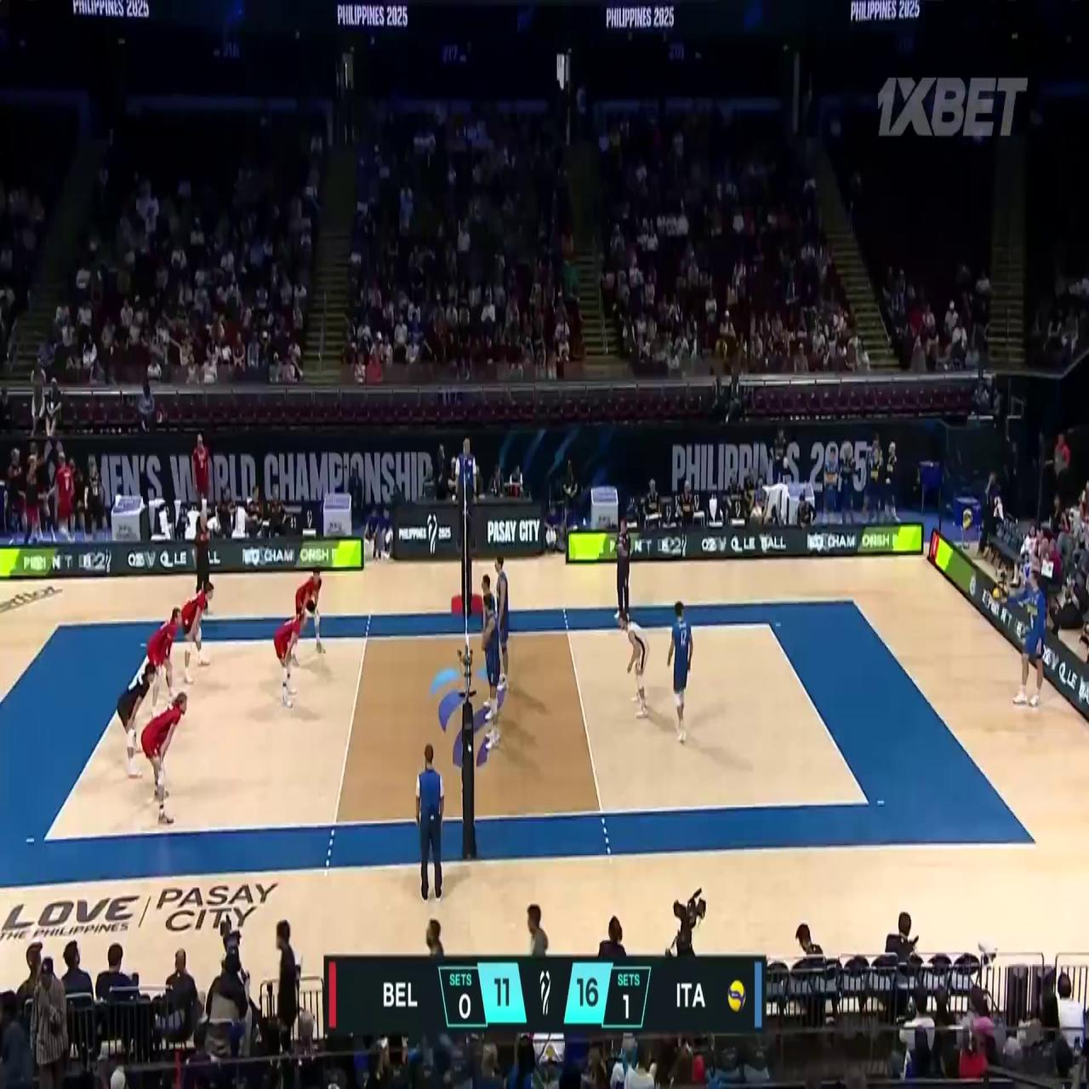ball: (993, 587, 1001, 602)
